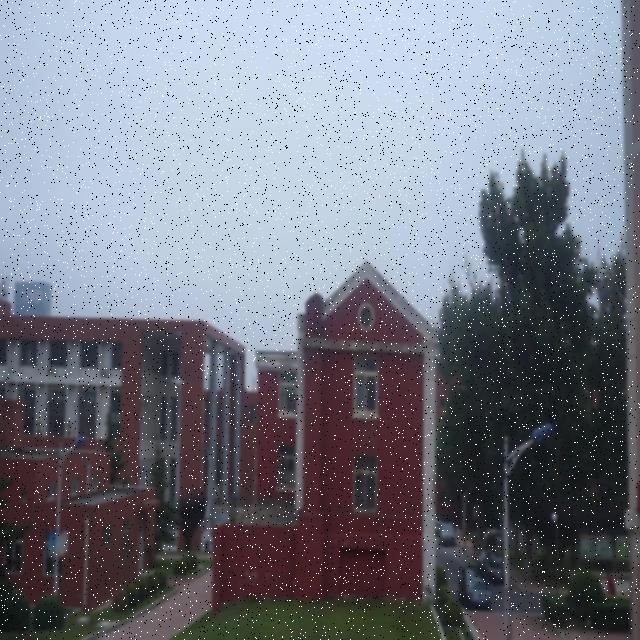UAV: (170, 378, 186, 390)
